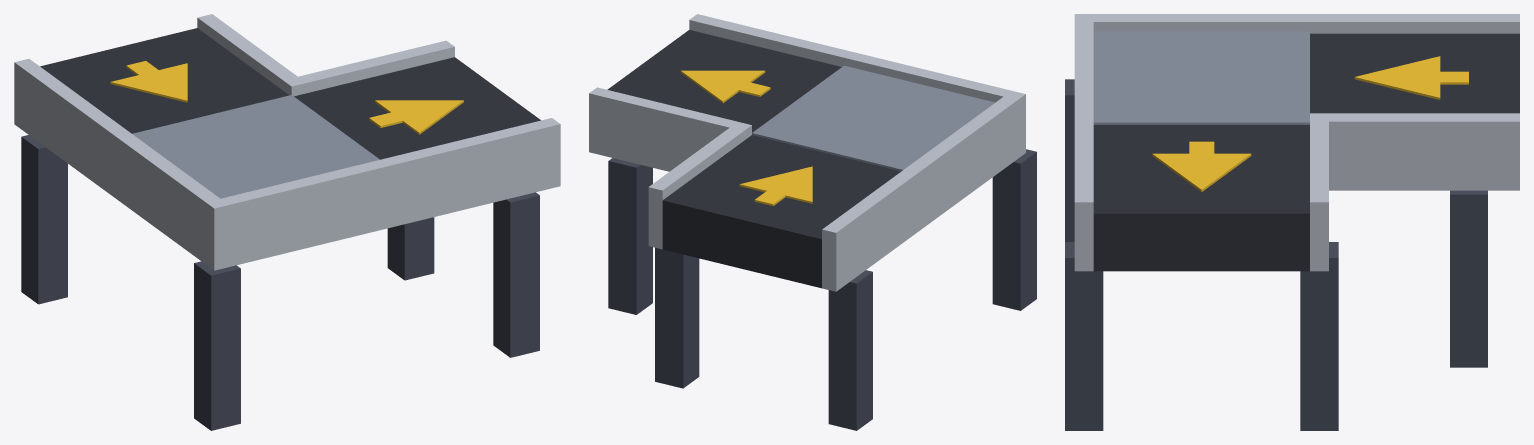
The model's file is conveyor-elbow-left.glb.
3 views of the same model, side by side, from view 1: azimuth 30°, elevation 25°; view 2: azimuth 150°, elevation 25°; view 3: azimuth 270°, elevation 25° (orthographic). The views are drawn at different scales.
Visible parts, largest first — view 1: conveyor-elbow-left; view 2: conveyor-elbow-left; view 3: conveyor-elbow-left.
Part boxes in pixels (x1,y1,x2,y2): conveyor-elbow-left: (14, 14, 560, 430); conveyor-elbow-left: (589, 14, 1036, 430); conveyor-elbow-left: (1065, 14, 1519, 430).
Bounding box in the file's own units: 0.715 × 0.42 × 0.715.
1 material, 1 textured.
